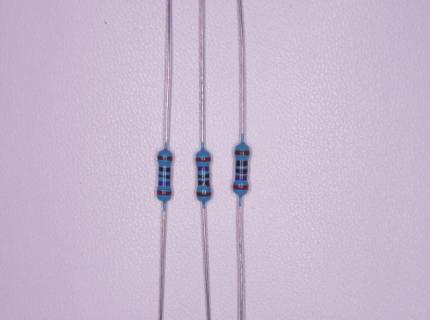Black band: (198, 173, 210, 179), (235, 161, 248, 166), (236, 169, 248, 174), (199, 181, 209, 187), (159, 167, 170, 172), (159, 174, 170, 179)
Brown band: (196, 191, 211, 197), (235, 150, 249, 155), (158, 156, 172, 160)
Red band: (233, 185, 248, 190), (157, 190, 171, 195), (196, 157, 210, 161)
Violet band: (158, 181, 170, 186), (235, 175, 247, 180), (198, 166, 209, 171)
